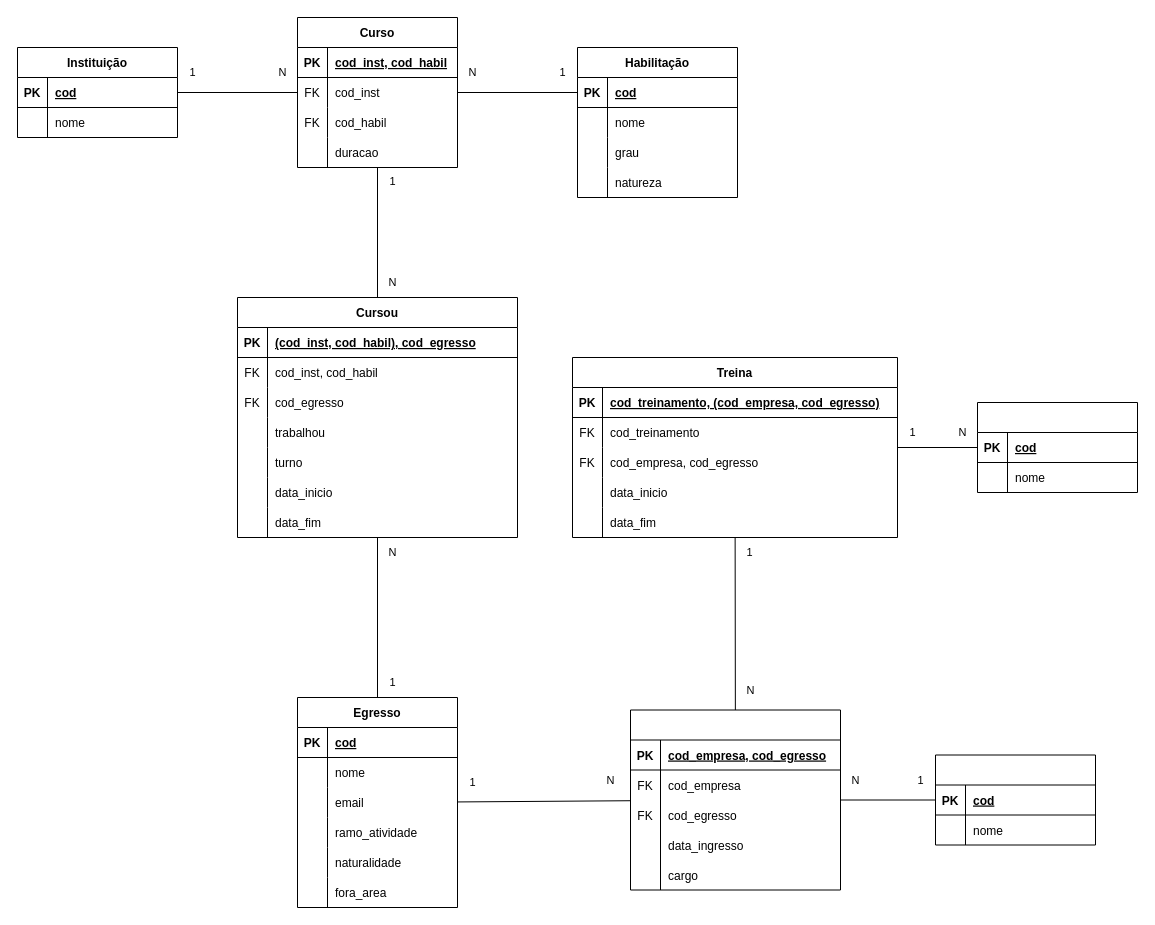
This 1155x925 diagram has some shape labels left out. Here are the shapes that lost their labels. From the top down, the box of each, then its label:
(976, 402, 1138, 492): Treinamento
(630, 709, 840, 890): Trabalha
(934, 754, 1096, 845): Empresa
